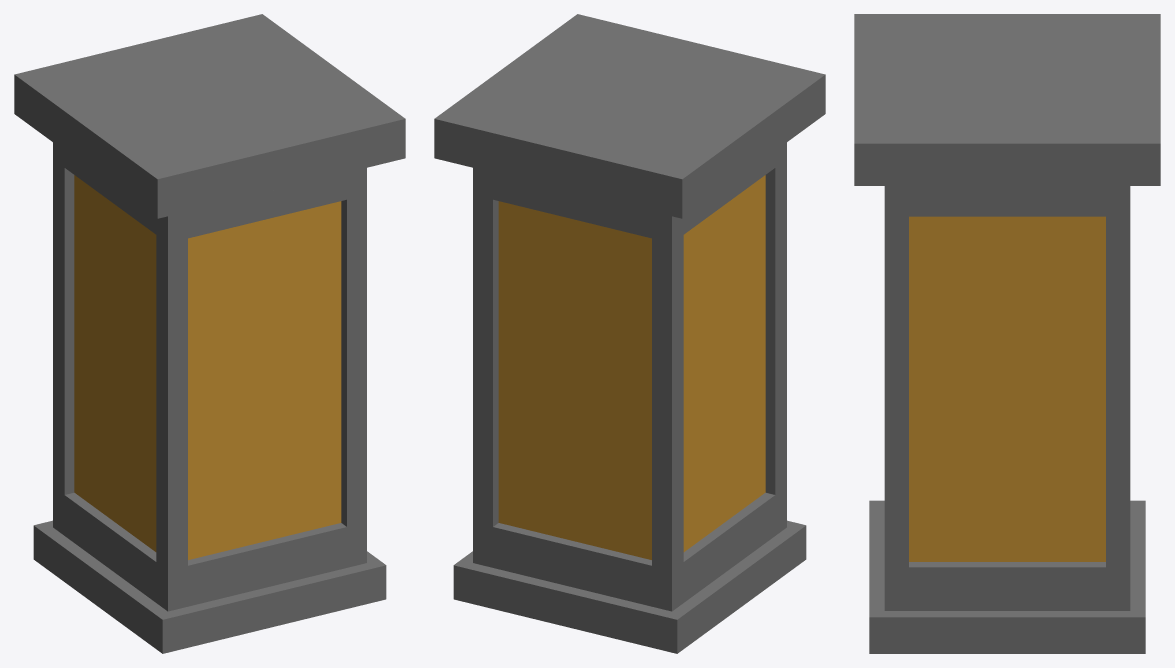
File: Grenade.fbx
3 renders of one model, left to right at view 1: azimuth 30°, elevation 25°; view 2: azimuth 150°, elevation 25°; view 3: azimuth 270°, elevation 25°, orthographic. The views are drawn at different scales.
Parts seen in each view (by area): view 1: Cube; view 2: Cube; view 3: Cube.
Part boxes in pixels (x1,y1,x2,y2): Cube: (14, 14, 405, 653); Cube: (434, 14, 825, 653); Cube: (854, 14, 1160, 653).
Size of the model in its own units: 50.33 by 93.59 by 50.33.
